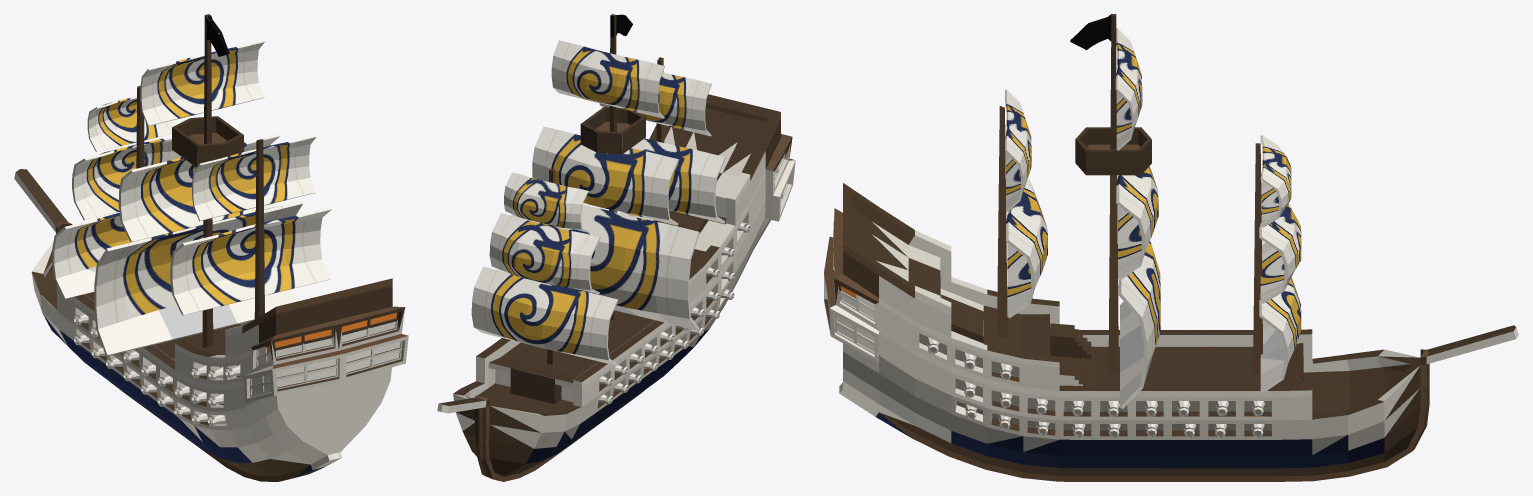
File: brig.glb
3 renders of one model, left to right at view 1: azimuth 30°, elevation 25°; view 2: azimuth 150°, elevation 25°; view 3: azimuth 270°, elevation 25°, orthographic. The views are drawn at different scales.
Parts seen in each view (by area): view 1: Ship__0; view 2: Ship__0; view 3: Ship__0.
Part boxes in pixels (x1,y1,x2,y2): Ship__0: (14,14,408,481); Ship__0: (437,14,795,481); Ship__0: (824,14,1518,481).
Bounding box in the file's own units: 9.78 × 20.6 × 28.
Materials: 4 (4 with a texture image).
